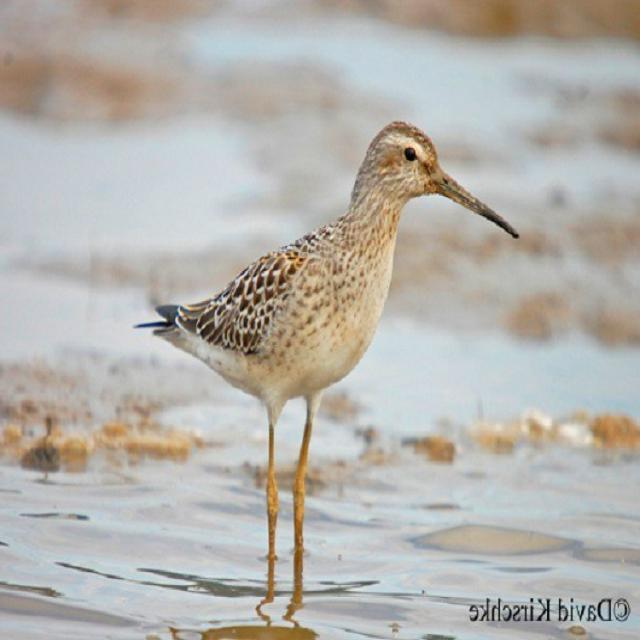sandpiper: (136, 122, 519, 560)
